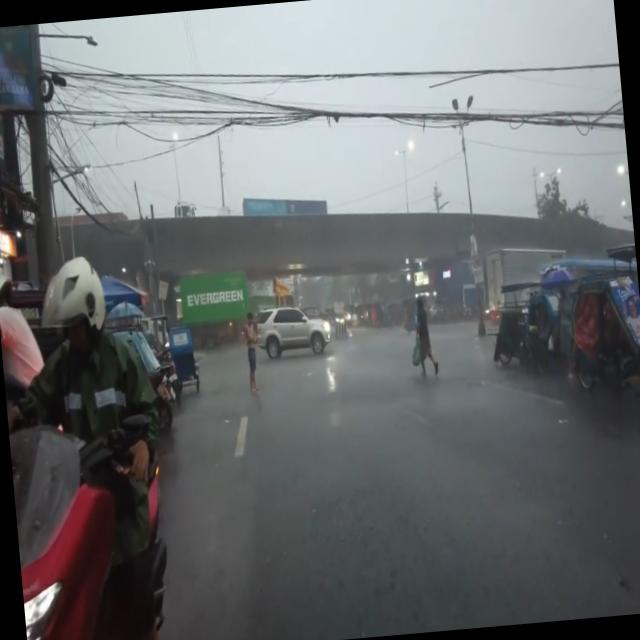half: (36, 253, 110, 358)
